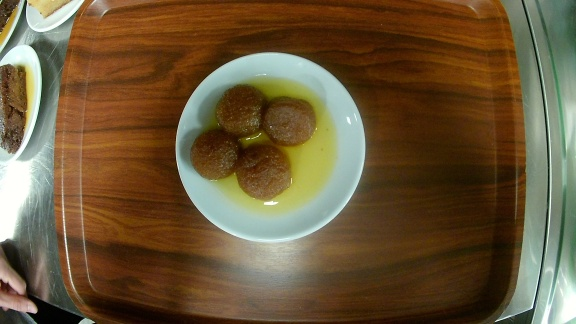kemalpasa: (175, 51, 367, 241)
